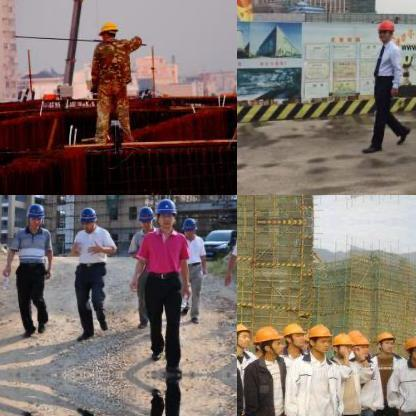Helmet: (252, 324, 284, 352), (152, 195, 178, 228), (308, 320, 330, 352), (330, 330, 354, 356), (280, 320, 304, 344), (93, 18, 119, 40), (23, 200, 42, 228), (374, 328, 394, 352), (136, 203, 154, 228), (374, 16, 392, 40), (78, 204, 96, 228), (180, 213, 198, 237), (352, 332, 370, 355), (401, 332, 415, 361), (237, 319, 250, 349)
